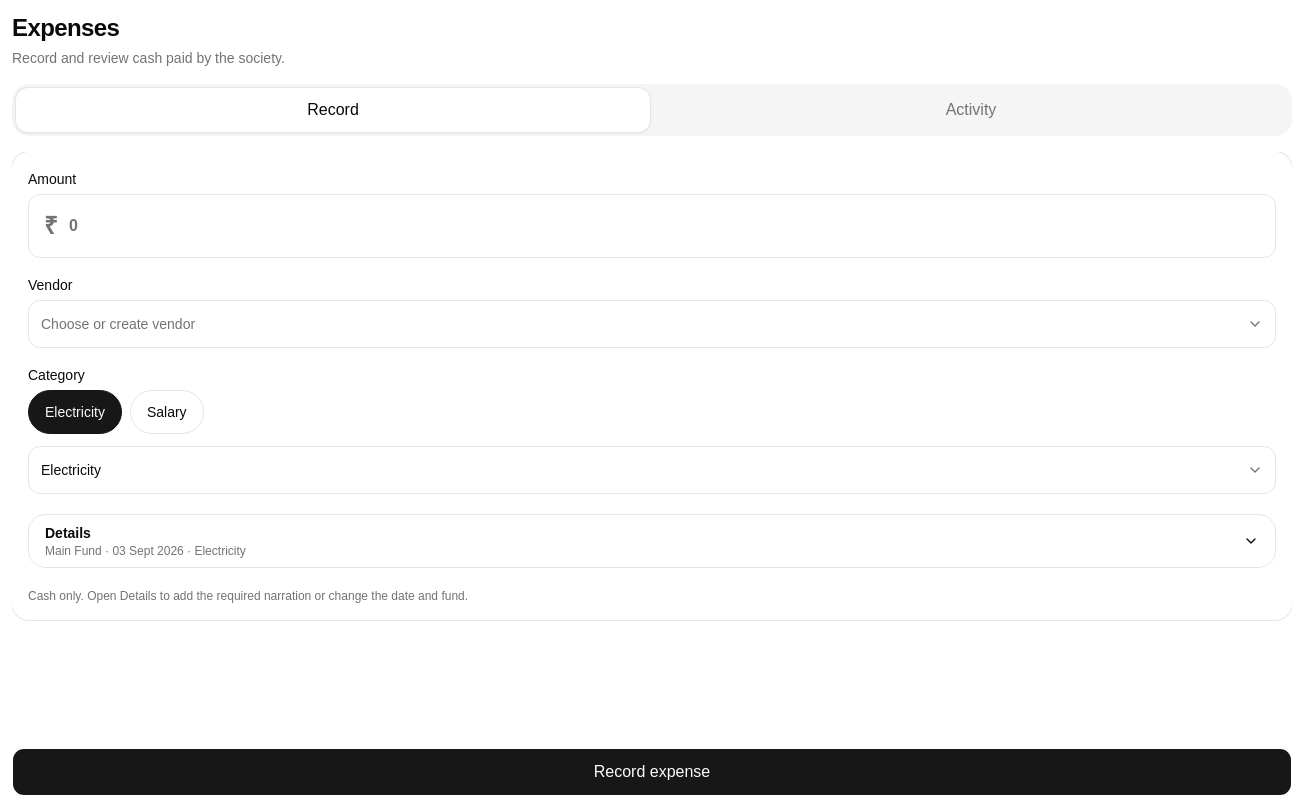
Test: ExpensesPage Slice 3 › distinguishes an Activity loading failure from a genuine empty state
The width and height of the screenshot is (1304, 812).
Click the tab "activity": [971, 110] box [654, 88, 1288, 132]
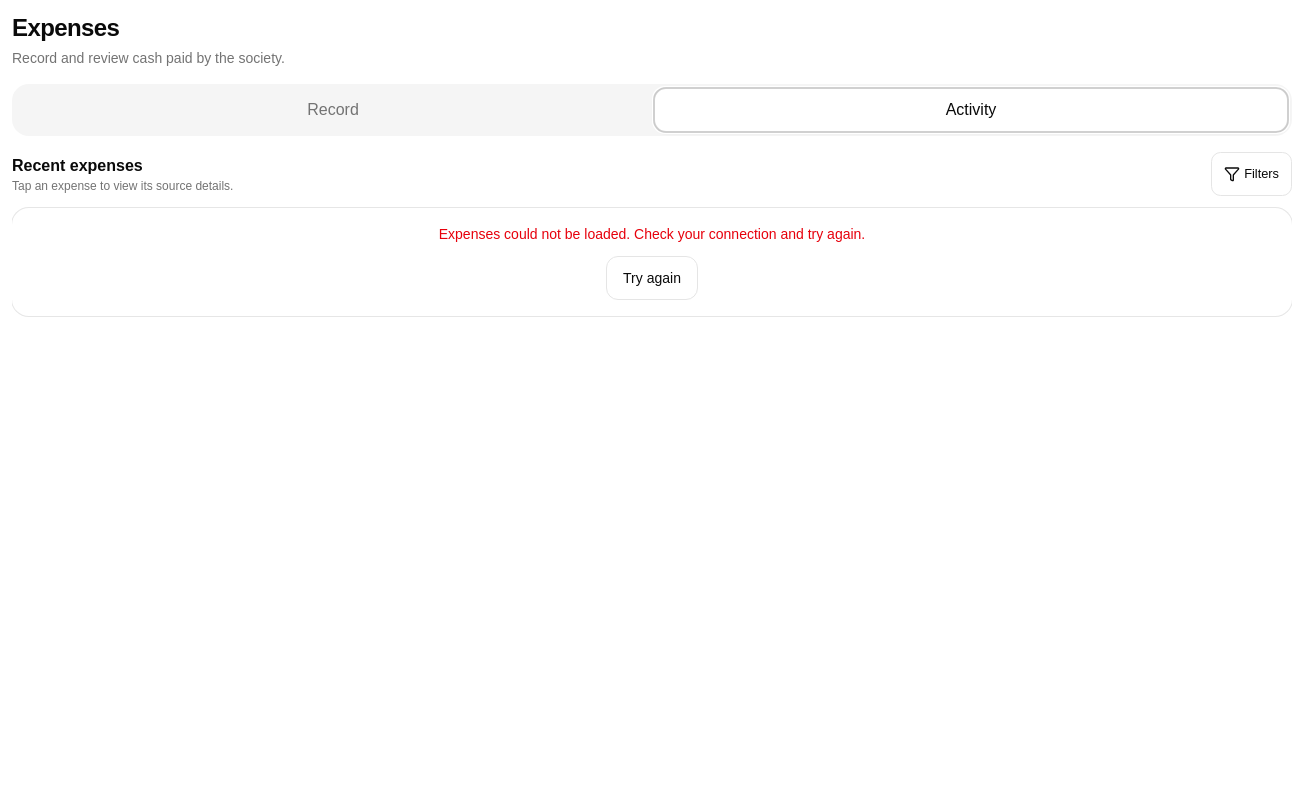
Expected: the message shows "could not be loaded", [439, 226, 865, 242]
Expected: the button "Try again" is shown, [606, 256, 698, 300]
